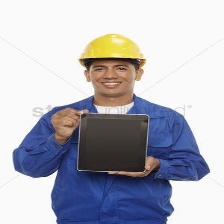helmet: (70, 30, 144, 64)
person: (10, 28, 214, 224)
vest: (18, 97, 205, 218)
